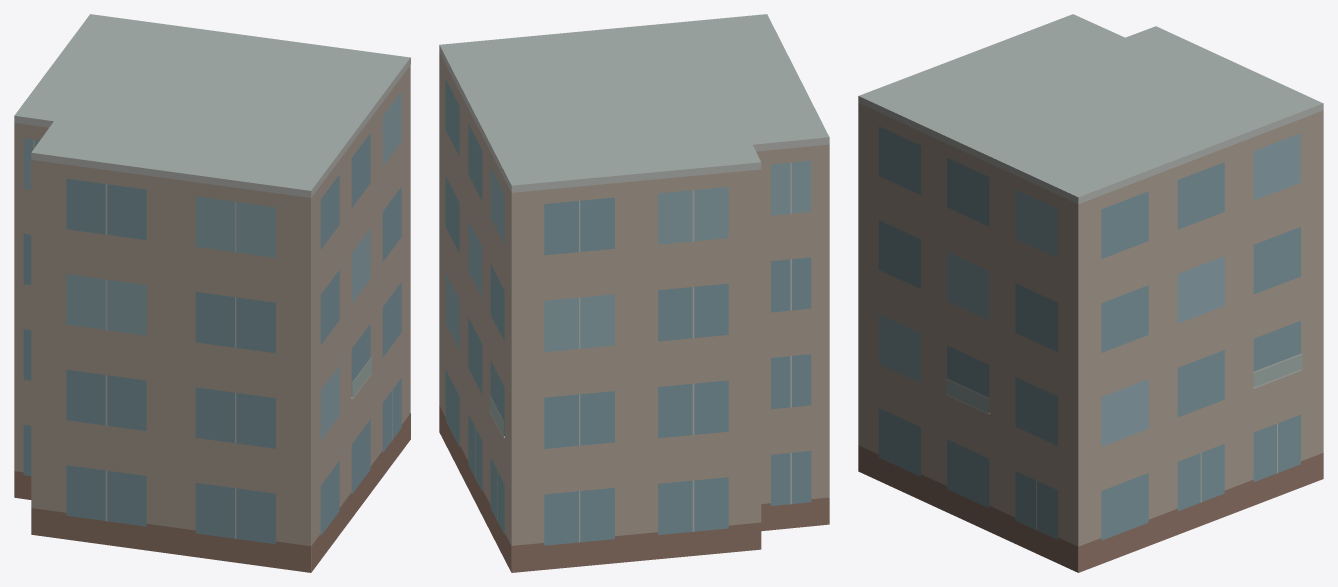
Rendered from survey-upis-32812451.glb.
The picture shows the model from 3 angles, left to right: view 1: azimuth 30°, elevation 25°; view 2: azimuth 150°, elevation 25°; view 3: azimuth 270°, elevation 25°; orthographic projection. The views are drawn at different scales.
Parts seen in each view (by area): view 1: survey-upis-32812451.tmp; view 2: survey-upis-32812451.tmp; view 3: survey-upis-32812451.tmp.
Boxes of the visible parts, left/top/right/bottom form: survey-upis-32812451.tmp: left=14, top=14, right=410, bottom=572; survey-upis-32812451.tmp: left=439, top=14, right=829, bottom=572; survey-upis-32812451.tmp: left=858, top=14, right=1323, bottom=572.
Bounding box in the file's own units: 13.83 × 13.2 × 14.82.
